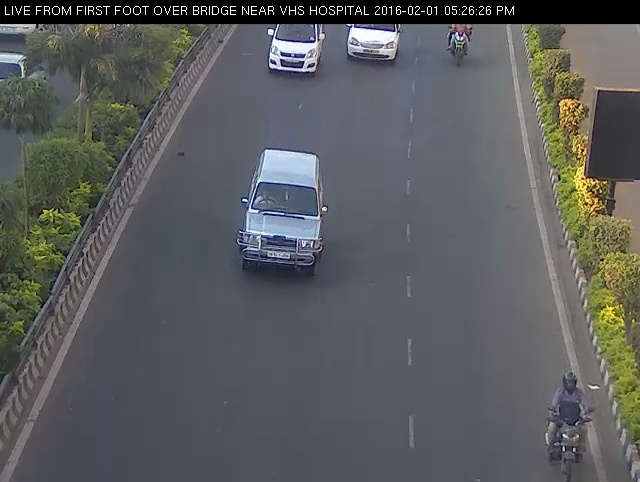Car: (227, 135, 337, 285), (257, 7, 330, 85), (338, 16, 406, 70)
Person: (537, 369, 598, 480), (442, 14, 478, 73)
